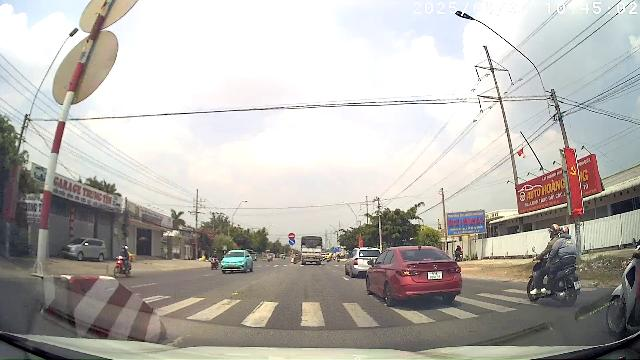102-cam-di-nguoc-chieu: (288, 233, 296, 239)
302a-huong-phai-di-vong-chuong-ngai-vat-1: (288, 239, 296, 245)
